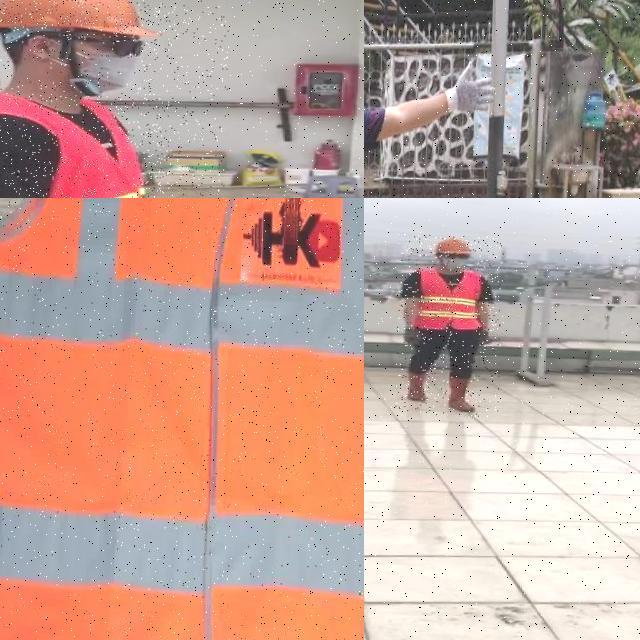boots: (446, 374, 481, 413), (402, 369, 432, 402)
helmet: (0, 0, 163, 44), (431, 236, 474, 256)
vest: (0, 198, 364, 640), (0, 89, 175, 198), (416, 269, 484, 331)
